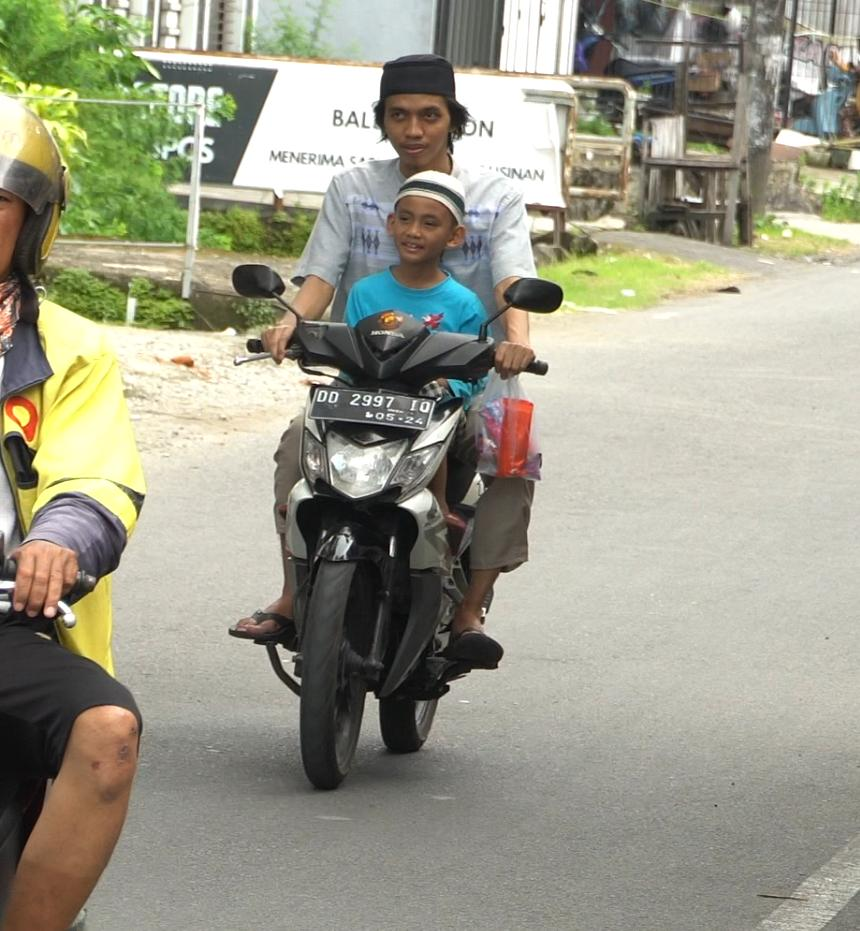number-plate: (305, 386, 435, 439)
